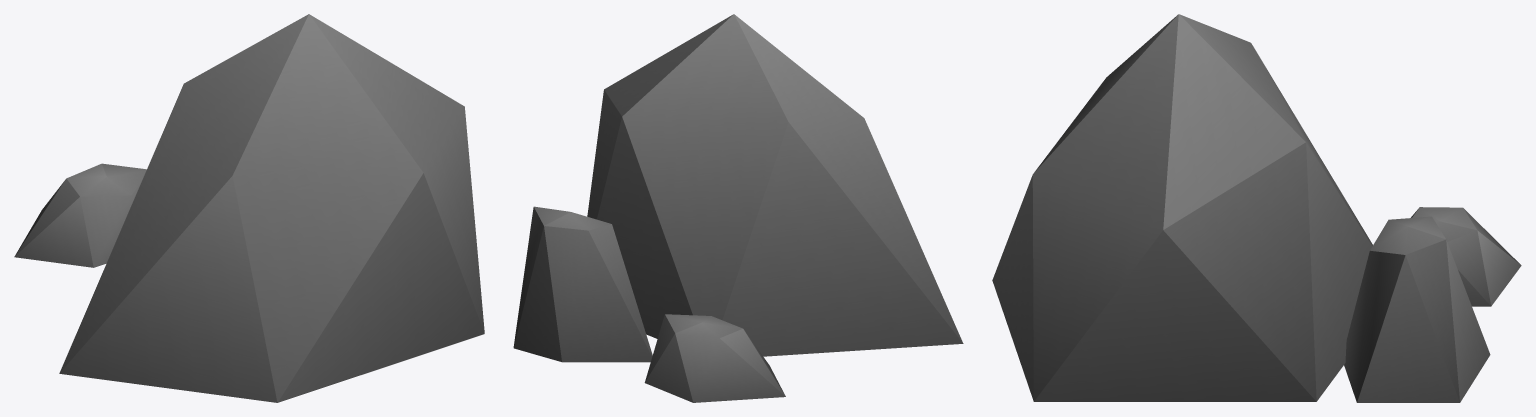
File: Stone_2.fbx
The picture shows the model from 3 angles, left to right: view 1: azimuth 30°, elevation 25°; view 2: azimuth 150°, elevation 25°; view 3: azimuth 270°, elevation 25°; orthographic projection. The views are drawn at different scales.
Parts seen in each view (by area): view 1: Icosphere.001, Icosphere.002; view 2: Icosphere.001, Icosphere.003, Icosphere.002; view 3: Icosphere.001, Icosphere.003, Icosphere.002.
Part boxes in pixels (left/top/right/bottom): Icosphere.001: left=59, top=14, right=484, bottom=402; Icosphere.002: left=14, top=163, right=146, bottom=267; Icosphere.001: left=587, top=14, right=963, bottom=356; Icosphere.003: left=513, top=206, right=652, bottom=362; Icosphere.002: left=644, top=314, right=785, bottom=402; Icosphere.001: left=992, top=14, right=1372, bottom=401; Icosphere.003: left=1344, top=216, right=1490, bottom=402; Icosphere.002: left=1411, top=207, right=1521, bottom=306.
Size of the model in its own units: 184 by 132 by 193.
